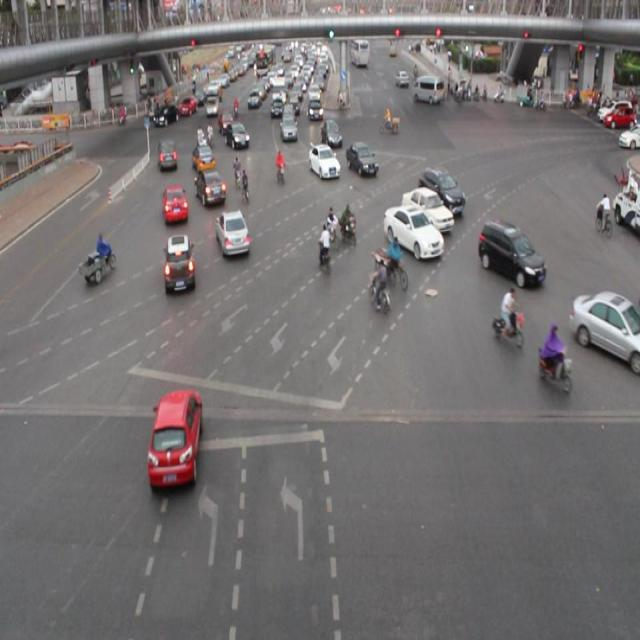car: (148, 388, 204, 487), (572, 291, 640, 361), (476, 220, 544, 284), (384, 205, 442, 258), (401, 185, 452, 232), (418, 162, 462, 215), (163, 232, 196, 295), (215, 209, 250, 257), (346, 141, 378, 180), (307, 143, 340, 179), (195, 169, 225, 208), (162, 184, 189, 225), (192, 141, 217, 175), (157, 138, 179, 170)
